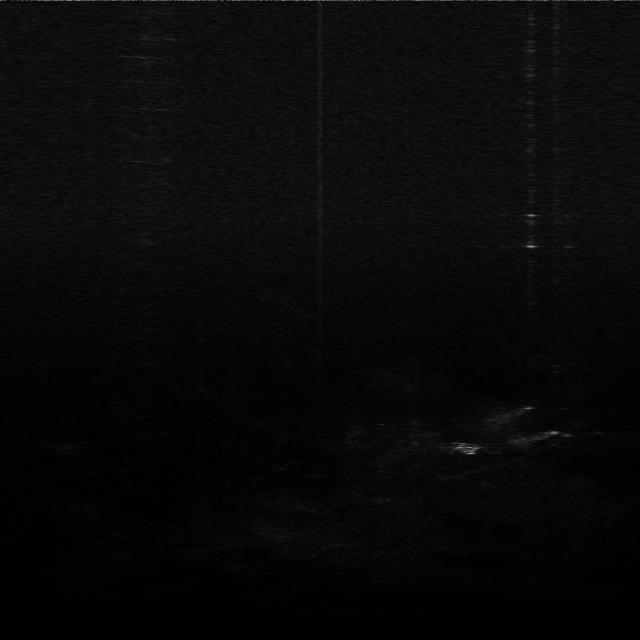rov: (452, 438, 484, 458)
